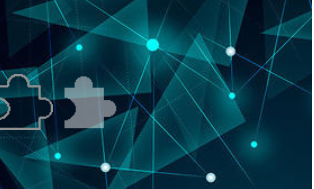target: (56, 75, 118, 132)
